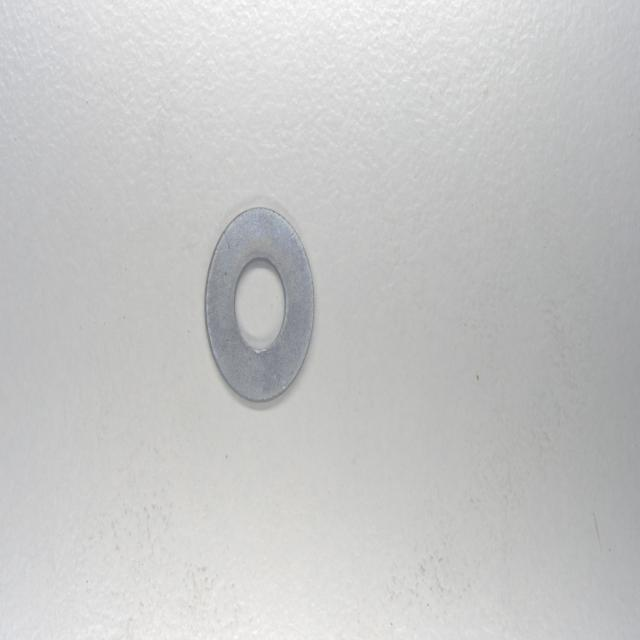washer: (205, 203, 317, 406)
